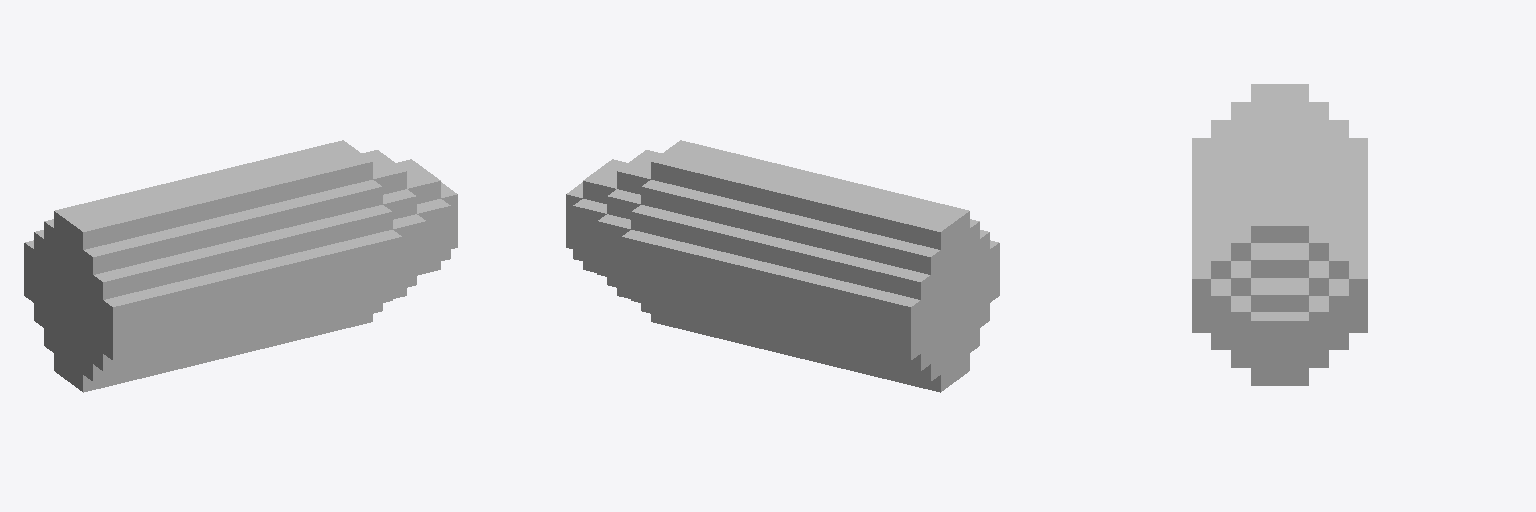
File: bullet1.obj
The picture shows the model from 3 angles: view 1: azimuth 30°, elevation 25°; view 2: azimuth 150°, elevation 25°; view 3: azimuth 270°, elevation 25°; orthographic projection.
Parts seen in each view (by area): view 1: object 1; view 2: object 1; view 3: object 1.
Part boxes in pixels (left/top/right/bottom): object 1: left=24, top=140, right=457, bottom=392; object 1: left=566, top=140, right=999, bottom=392; object 1: left=1192, top=84, right=1367, bottom=385.
Bounding box in the file's own units: 2.2 × 0.9 × 0.9.